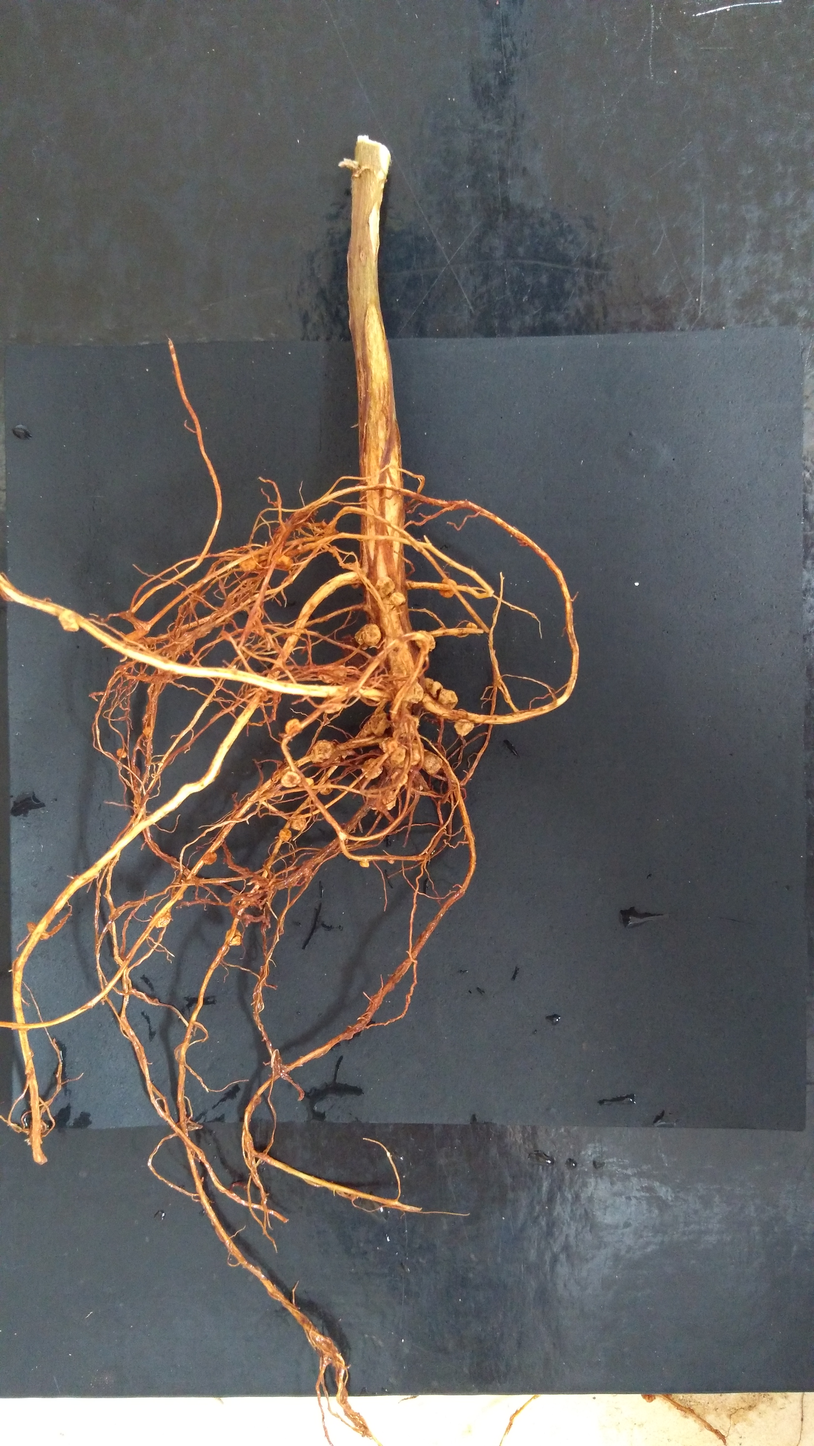nodule: (353, 624, 382, 651), (315, 664, 348, 686), (399, 679, 424, 705), (309, 739, 334, 764), (367, 711, 391, 736), (412, 629, 436, 652), (422, 750, 443, 776), (59, 607, 79, 634), (361, 757, 384, 780), (277, 770, 302, 788), (374, 577, 396, 597), (439, 687, 459, 709), (321, 696, 344, 715), (27, 922, 51, 940), (453, 716, 473, 737), (437, 579, 457, 599), (390, 768, 409, 789), (282, 717, 304, 735), (153, 910, 172, 929), (409, 742, 423, 767), (225, 928, 243, 947), (239, 557, 259, 574), (378, 736, 398, 753), (274, 556, 295, 570), (390, 747, 406, 765), (380, 790, 396, 808), (430, 680, 444, 700), (291, 814, 307, 830), (299, 776, 315, 790), (319, 780, 333, 795), (278, 828, 292, 842), (390, 592, 405, 605), (202, 853, 218, 865), (168, 890, 185, 901), (423, 675, 434, 690), (140, 725, 151, 738), (116, 747, 127, 759), (358, 858, 371, 868), (465, 621, 478, 631), (456, 709, 468, 719), (386, 857, 397, 866)
